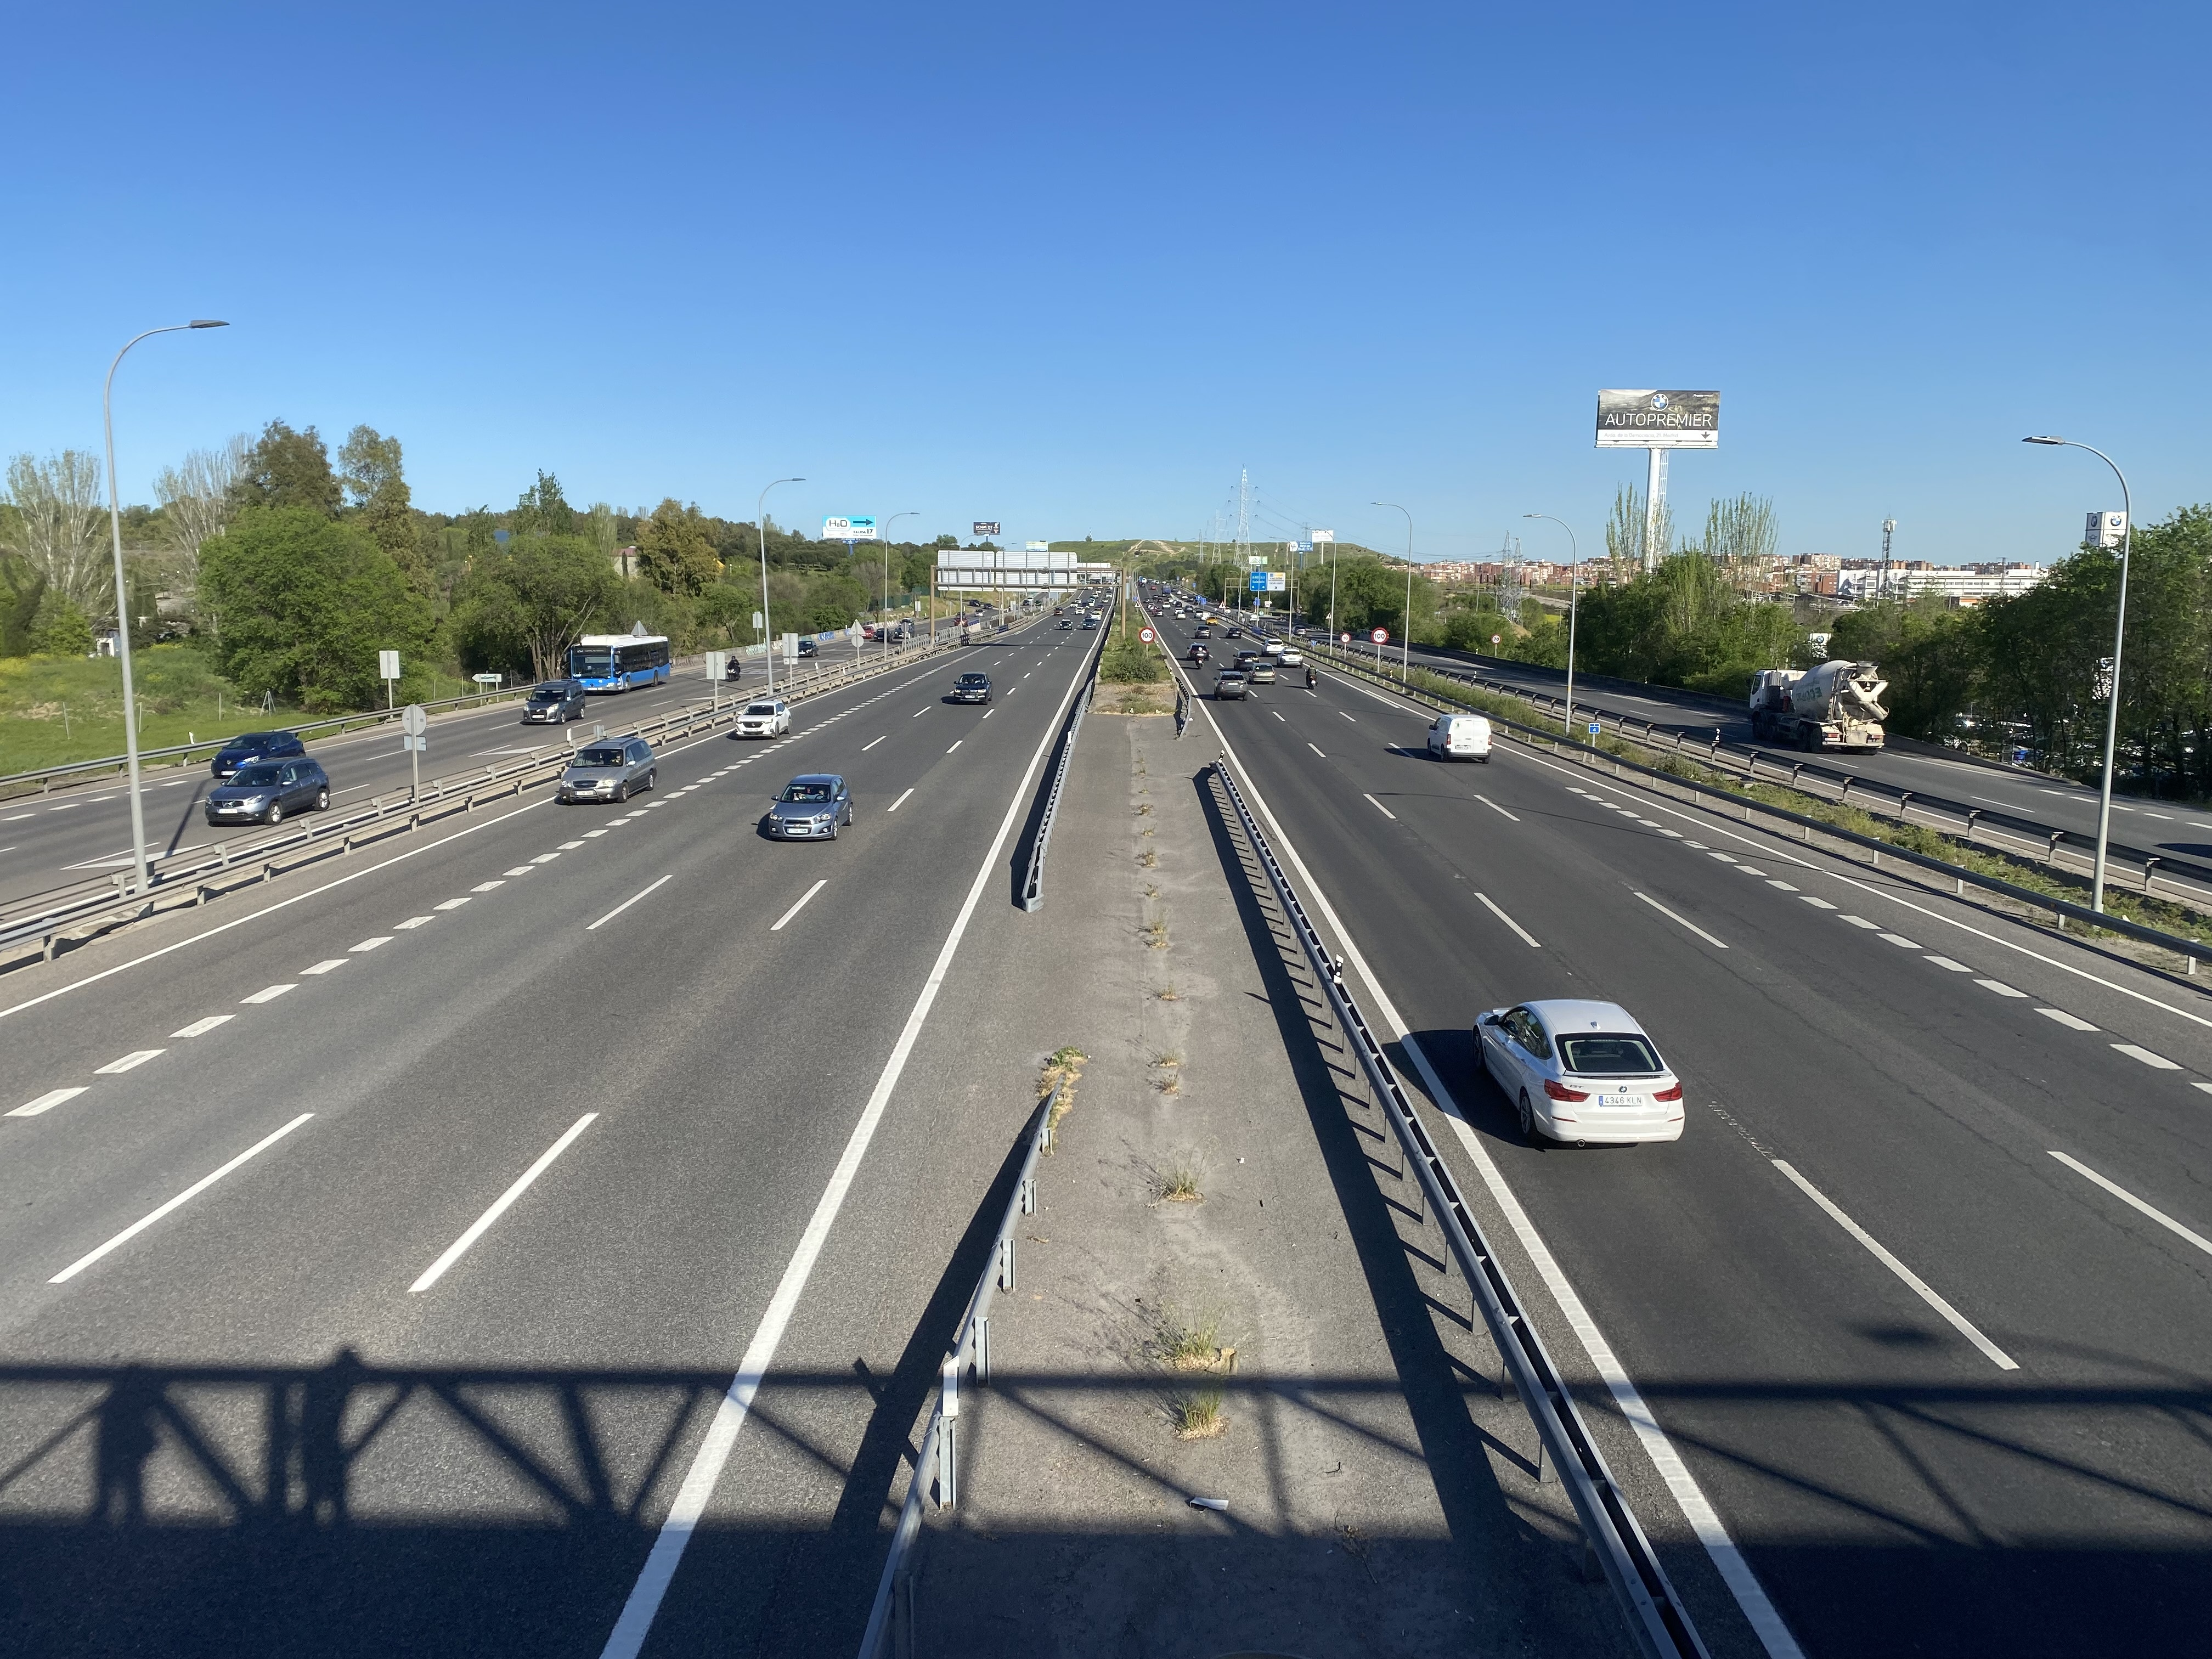cars: (1474, 998, 1684, 1143), (204, 757, 330, 824), (556, 735, 656, 803), (757, 774, 852, 839), (211, 730, 304, 780), (522, 679, 585, 723), (732, 697, 791, 738), (944, 672, 991, 703), (1212, 669, 1250, 700), (1246, 658, 1276, 683), (1233, 651, 1262, 673), (1188, 641, 1210, 665), (1277, 648, 1304, 667), (798, 636, 817, 658), (1305, 664, 1317, 690)
